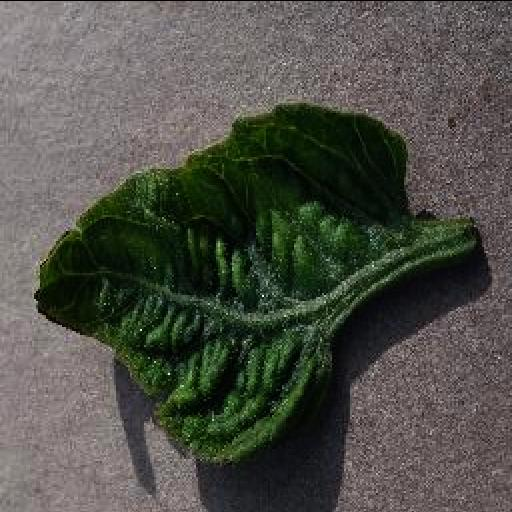disease_tomato: (35, 98, 409, 464)
